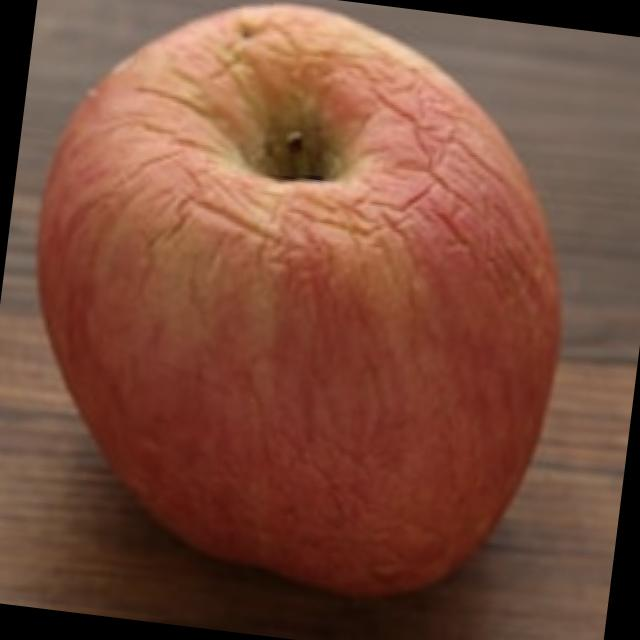rotten_apple: (0, 0, 601, 617)
